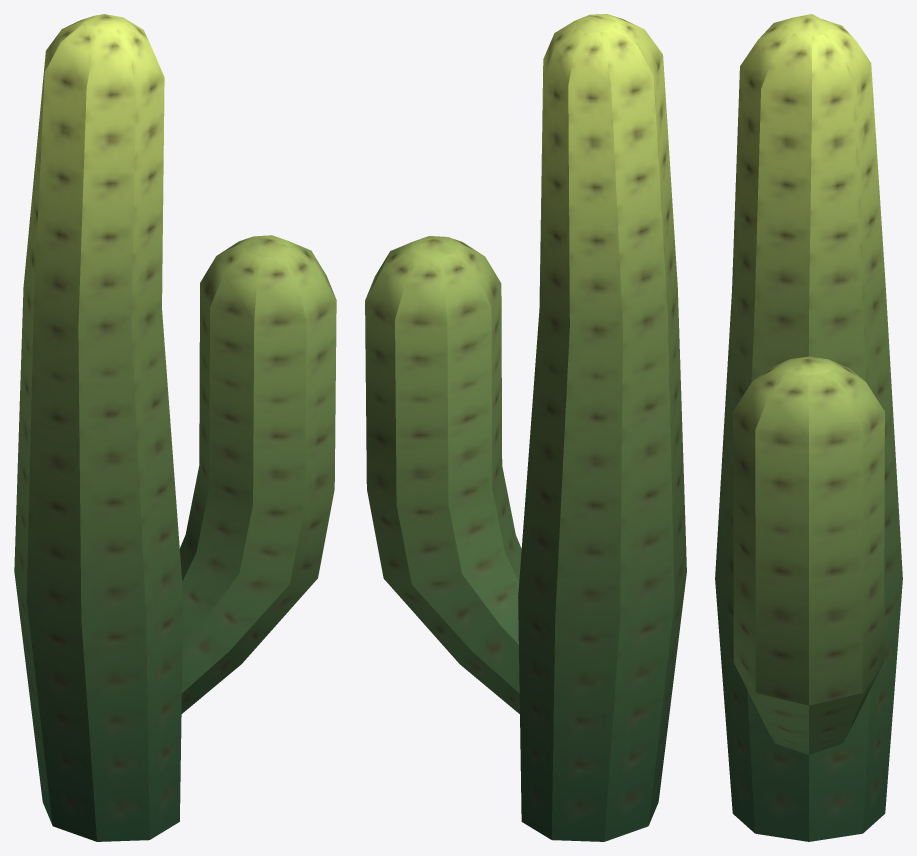
The model's file is Cactus_03.fbx.
The picture shows the model from 3 angles, left to right: view 1: azimuth 30°, elevation 25°; view 2: azimuth 150°, elevation 25°; view 3: azimuth 270°, elevation 25°; orthographic projection.
Parts seen in each view (by area): view 1: Cactus_03; view 2: Cactus_03; view 3: Cactus_03.
Part boxes in pixels (x1=…): Cactus_03: x1=14, y1=14, x2=336, y2=841; Cactus_03: x1=365, y1=14, x2=686, y2=841; Cactus_03: x1=715, y1=14, x2=902, y2=841.
Size of the model in its own units: 763 by 1941 by 418.
